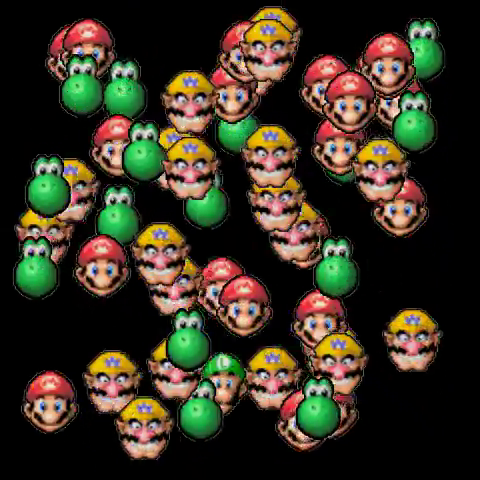luigi: (208, 353, 249, 412)
